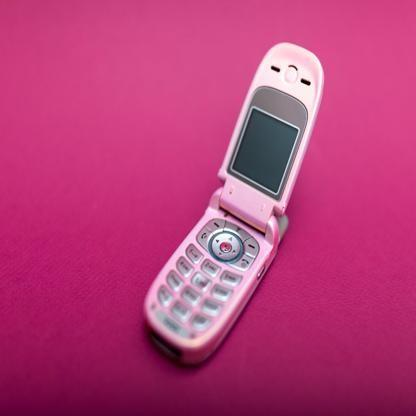not trash: (143, 42, 334, 361)
